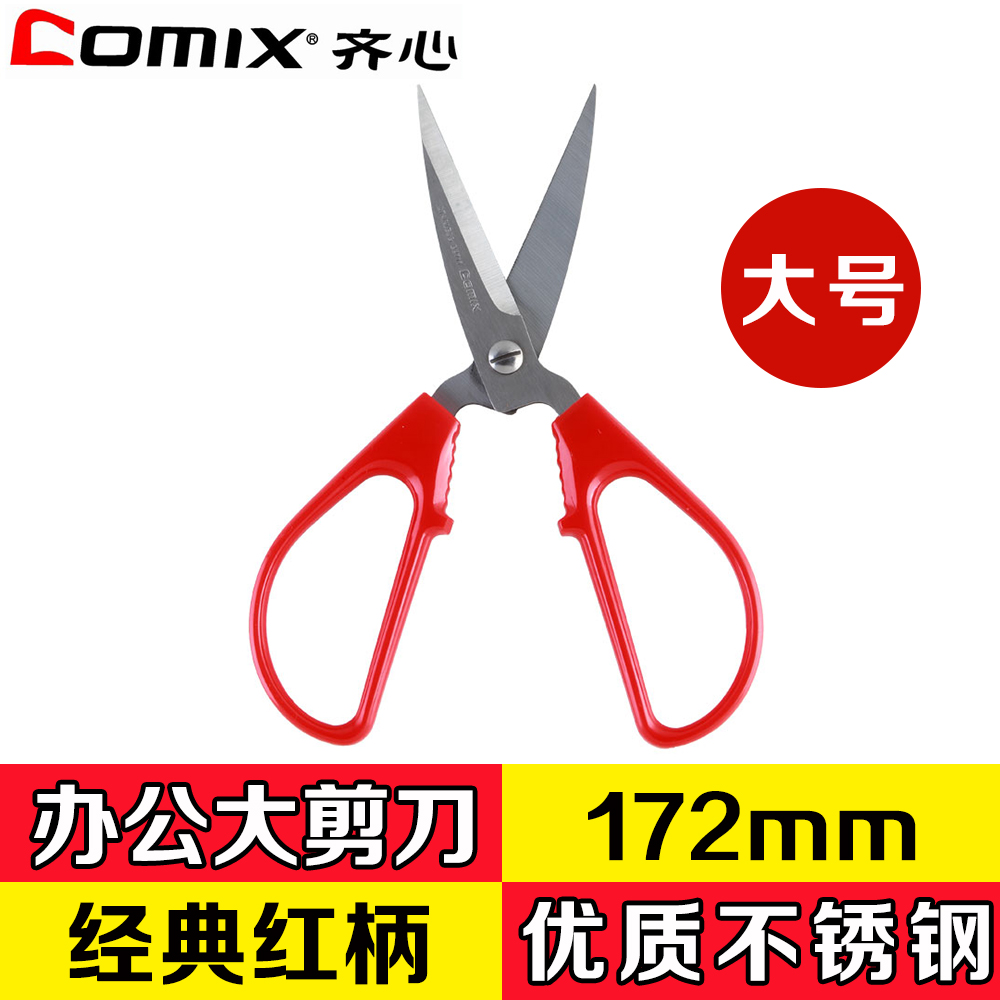scissors: (229, 80, 771, 752)
